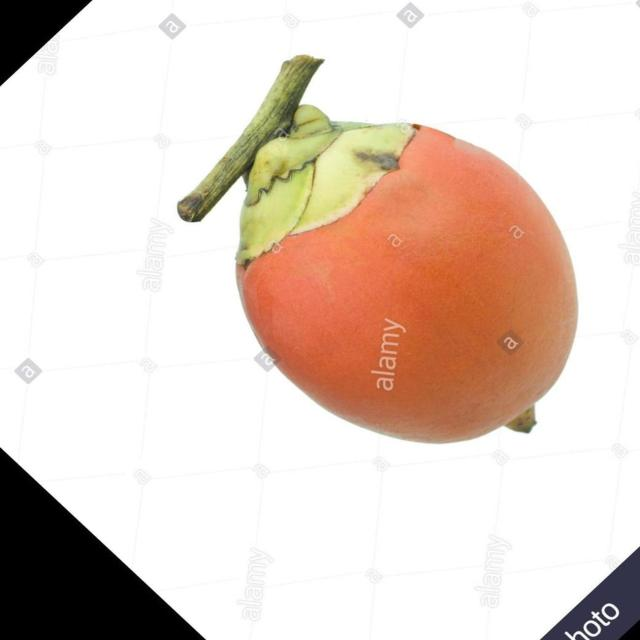good: (234, 106, 578, 447)
